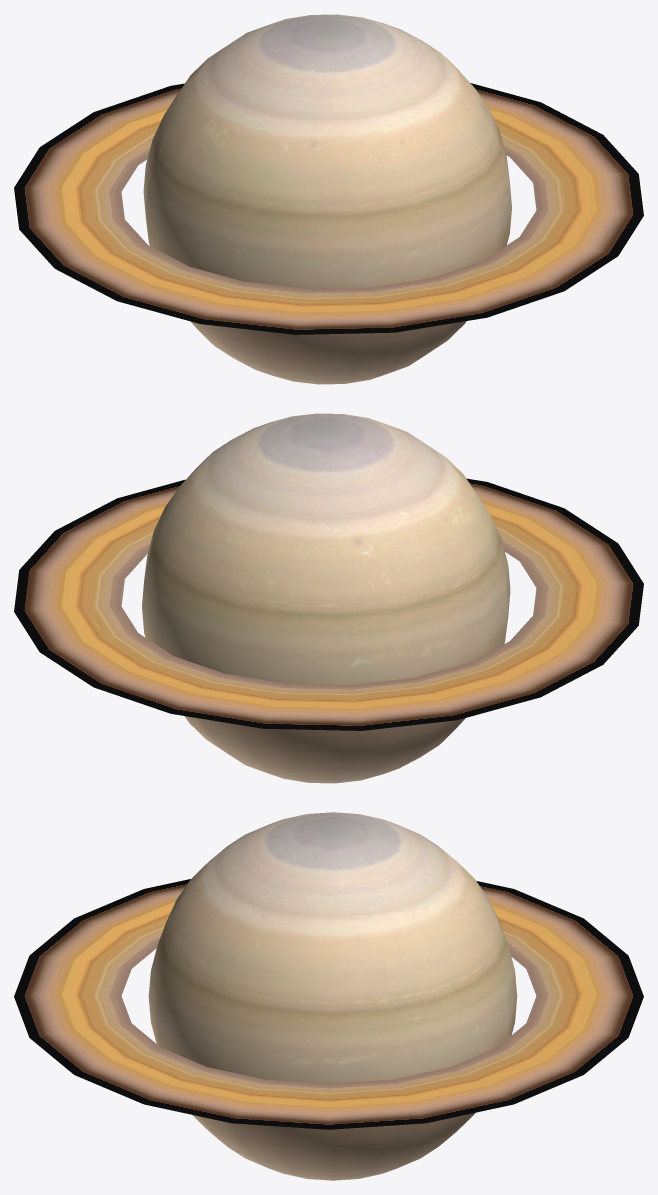
The model's file is Saturn.glb.
3 renders of one model, top to bottom at view 1: azimuth 30°, elevation 25°; view 2: azimuth 150°, elevation 25°; view 3: azimuth 270°, elevation 25°, orthographic.
Parts seen in each view (by area): view 1: Saturn; view 2: Saturn; view 3: Saturn.
Part boxes in pixels (x1,y1,x2,y2): Saturn: [14, 14, 643, 384]; Saturn: [14, 413, 643, 783]; Saturn: [14, 812, 643, 1180].
Size of the model in its own units: 2.86 by 1.67 by 2.86.
Materials: 2 (2 with a texture image).
